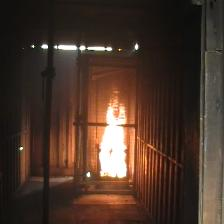fire: (101, 93, 127, 179)
